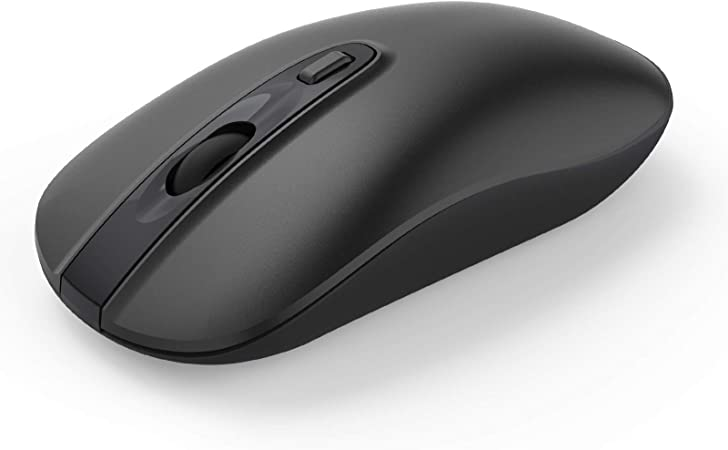mouse: (35, 9, 685, 360)
